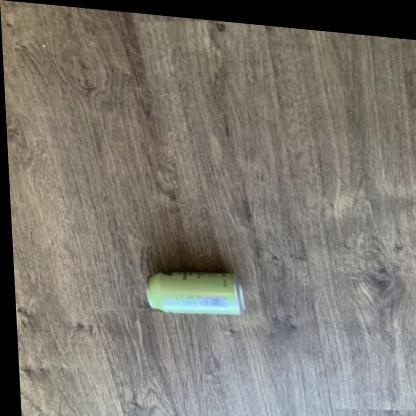trash: (147, 272, 244, 314)
